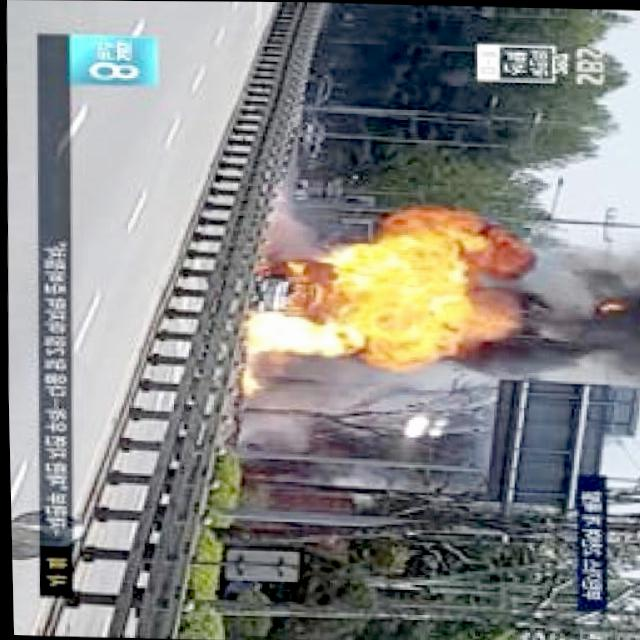helmet: (249, 213, 468, 373)
no_helmet: (457, 221, 640, 388)
